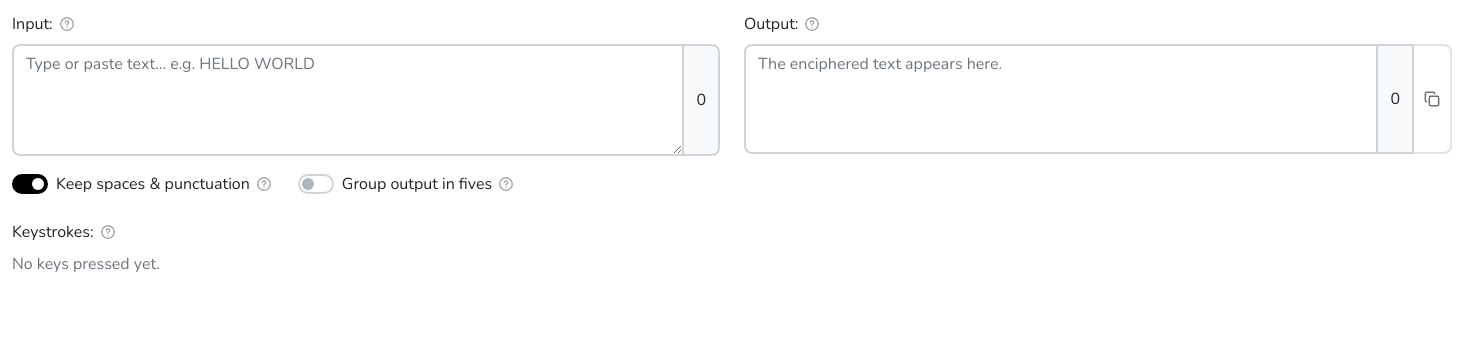
it: TextIO › typing in the textarea drives store.input and enciphers AAAAA → BDZGO
The image size is (1464, 361).
Type "aaaaa" into the text box labelled "Input:".
click(348, 100); type("aaaaa")  # box [12,44,684,156]
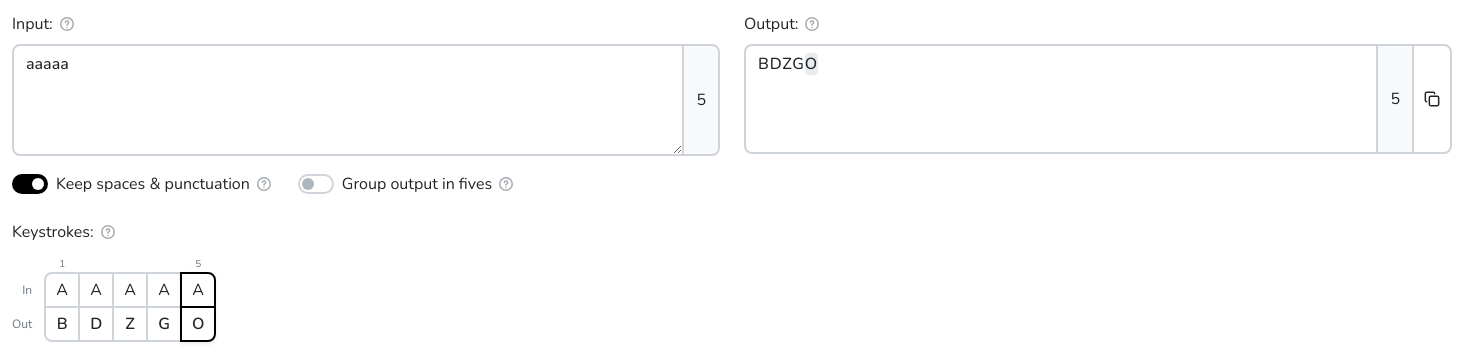
Expected: the field named "Output:" reads "BDZGO", [744,44,1378,154]
